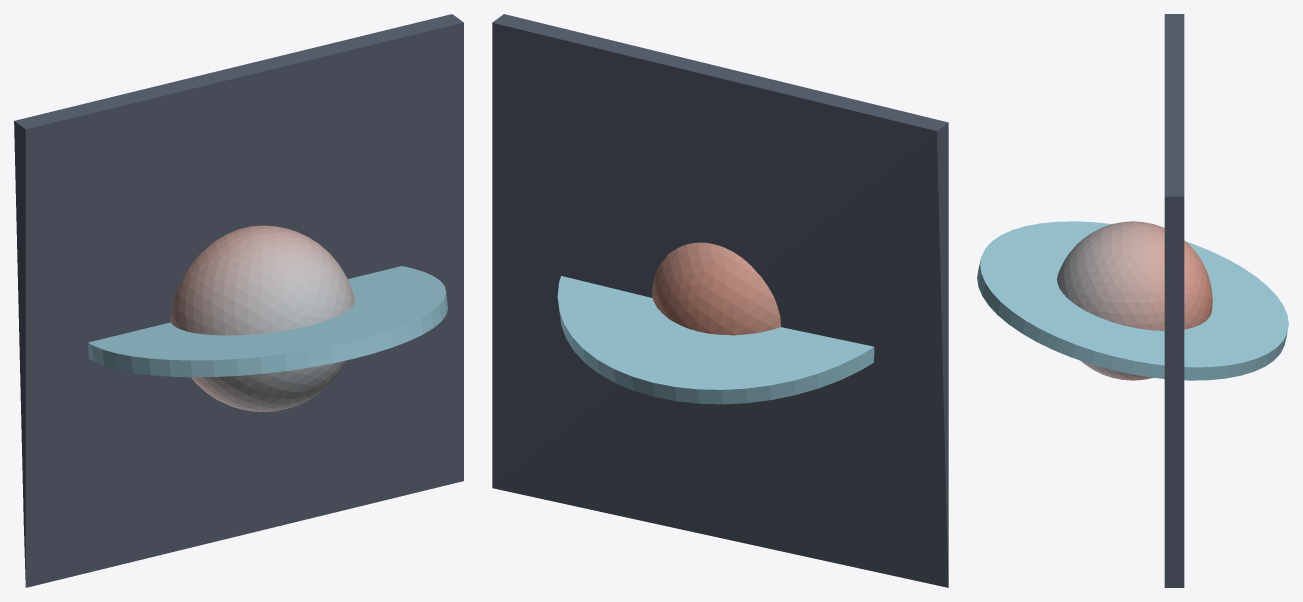
The model's file is trimesh_scene_mutated.glb.
3 renders of one model, left to right at view 1: azimuth 30°, elevation 25°; view 2: azimuth 150°, elevation 25°; view 3: azimuth 270°, elevation 25°, orthographic. The views are drawn at different scales.
Visible parts, largest first — view 1: world; view 2: world; view 3: world.
Part boxes in pixels (left/top/right/bottom): world: left=14, top=14, right=463, bottom=587; world: left=492, top=14, right=948, bottom=587; world: left=977, top=14, right=1288, bottom=587.
Bounding box in the file's own units: 2.6 × 2.6 × 1.88.
